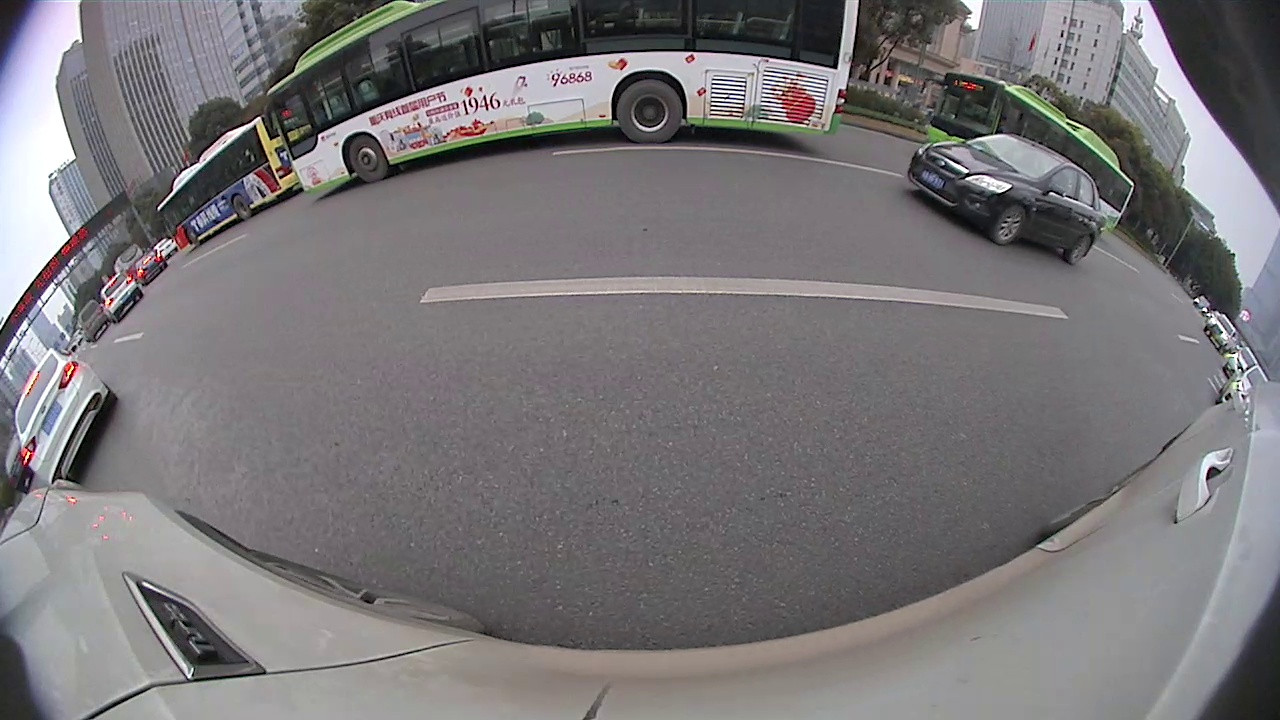bus: (258, 1, 861, 201), (921, 66, 1137, 238), (150, 106, 303, 260)
car: (904, 131, 1110, 267), (11, 344, 122, 489)
front: (346, 134, 389, 185), (989, 203, 1028, 246)
rear: (615, 78, 684, 146), (1067, 233, 1094, 266), (232, 193, 253, 221)
